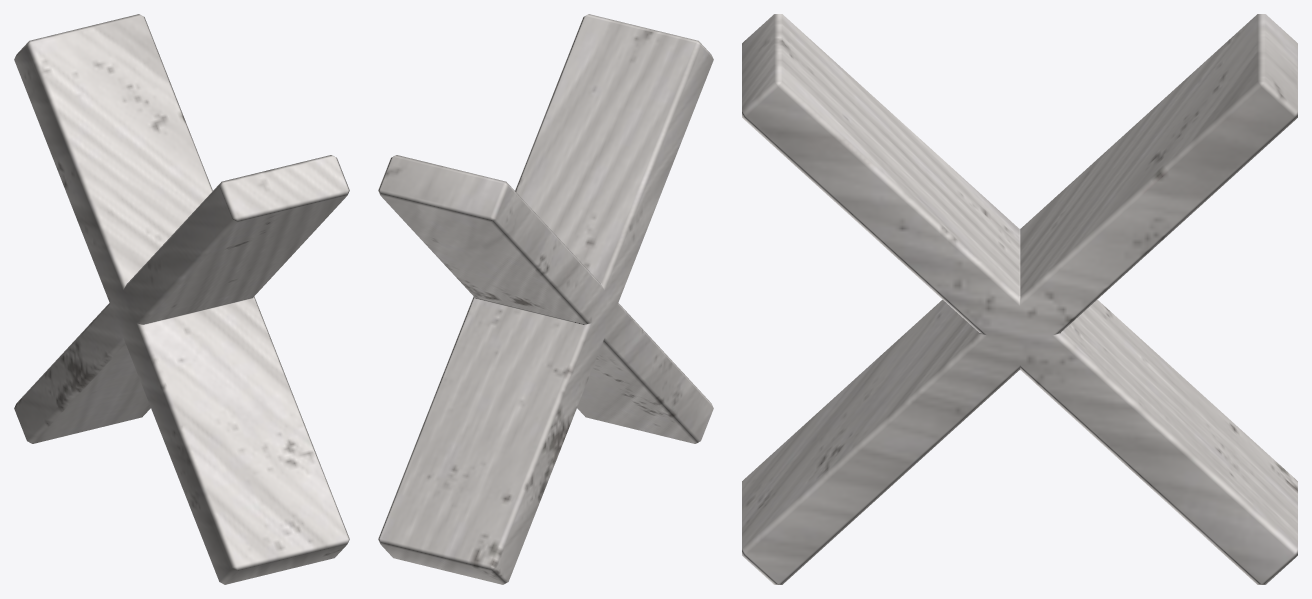
The model's file is 03_Cavaletti1.glb.
3 views of the same model, side by side, from view 1: azimuth 30°, elevation 25°; view 2: azimuth 150°, elevation 25°; view 3: azimuth 270°, elevation 25° (orthographic). The views are drawn at different scales.
Parts seen in each view (by area): view 1: Cavaletti1; view 2: Cavaletti1; view 3: Cavaletti1.
Part boxes in pixels (left/top/right/bottom): Cavaletti1: left=14, top=14, right=349, bottom=584; Cavaletti1: left=378, top=14, right=713, bottom=584; Cavaletti1: left=742, top=14, right=1297, bottom=584.
Bounding box in the file's own units: 0.15 × 0.4881 × 0.4881.
Materials: 1 (1 with a texture image).
